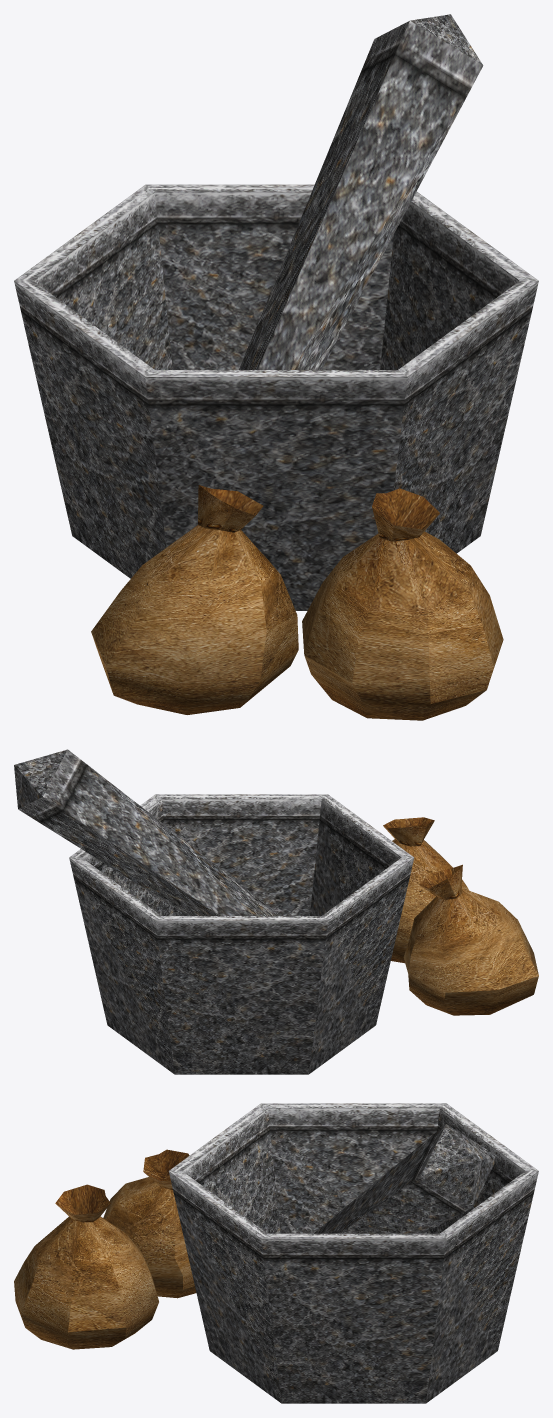
The model's file is mm9_deco_shelfitem02mp.glb.
The picture shows the model from 3 angles, top to bottom: view 1: azimuth 30°, elevation 25°; view 2: azimuth 150°, elevation 25°; view 3: azimuth 270°, elevation 25°; orthographic projection. The views are drawn at different scales.
Visible parts, largest first — view 1: Shelfitem02mp; view 2: Shelfitem02mp; view 3: Shelfitem02mp.
Part boxes in pixels (x1,y1,x2,y2): Shelfitem02mp: (14,14,538,720); Shelfitem02mp: (14,749,538,1074); Shelfitem02mp: (14,1103,538,1403).
Bounding box in the file's own units: 0.3462 × 0.2477 × 0.3904.
Materials: 2 (2 with a texture image).
